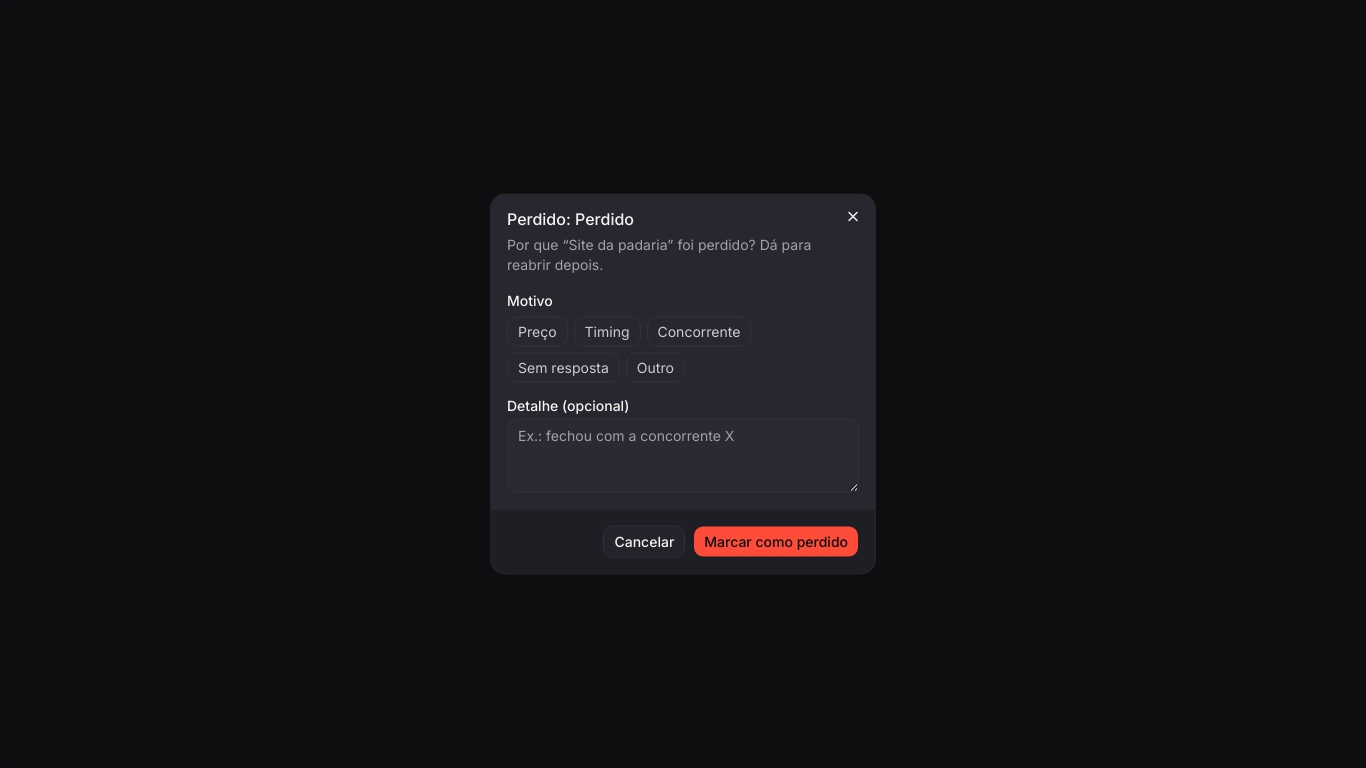
Test: DialogoTerminal — perdido › motivo obrigatório
The width and height of the screenshot is (1366, 768).
Click the button "Marcar como perdido" at (776, 542), box [693,526,859,558]
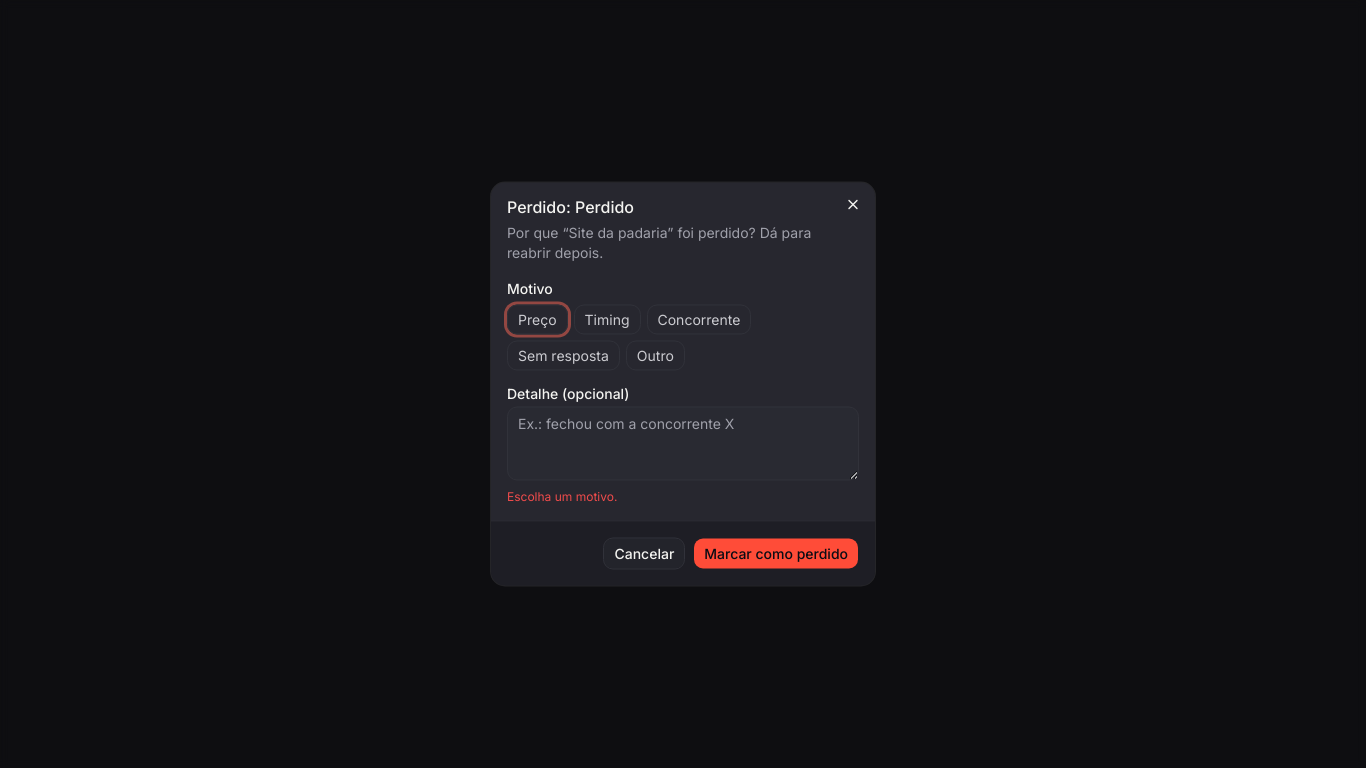
Check: the message reads "Escolha um motivo.", box [507,488,617,504]
